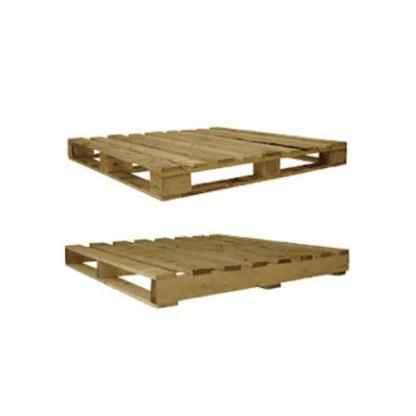BoxFace: (60, 230, 349, 313), (64, 124, 351, 206)
